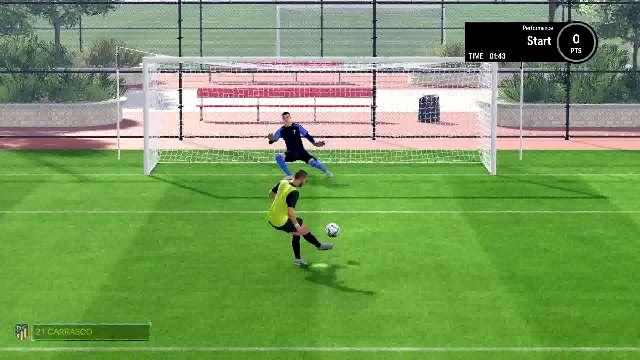bottom-left: (156, 124, 260, 173)
bottom-right: (374, 122, 484, 172)
center-down: (261, 125, 371, 175)
center-up: (260, 69, 372, 123)
circle: (313, 264, 329, 266)
football: (325, 222, 341, 238)
goalkeeper: (266, 111, 332, 177)
player: (266, 170, 334, 268)
top-left: (157, 69, 259, 123)
top-right: (374, 68, 484, 120)
